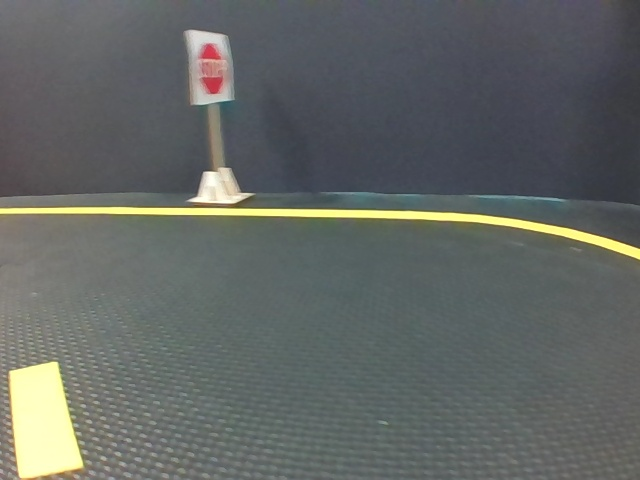stop: (185, 30, 234, 104)
